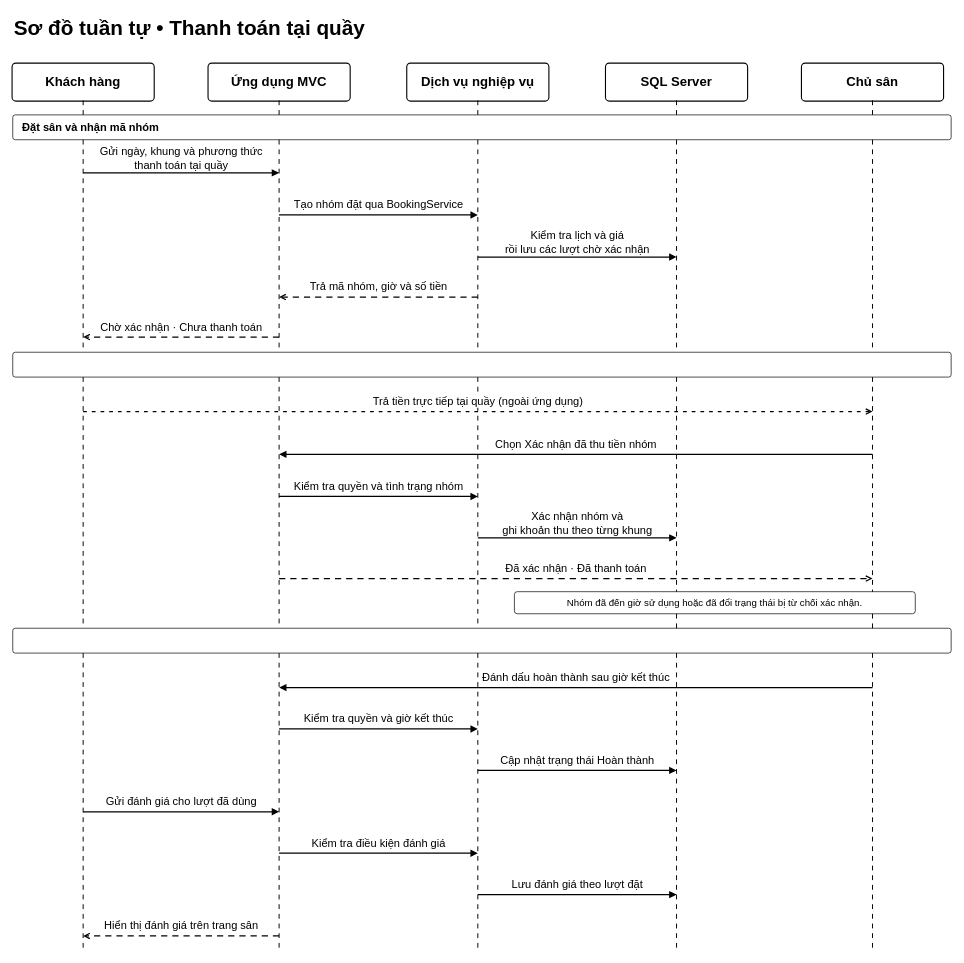
Some shapes in this 964 by 963 pixel diagram are drawn without their labels. The shapes that lost their labels are listed below. From the top down, each one's centre as x and y in pixels, then its label:
the point at 481,364: Thu tiền trước giờ bắt đầu
the point at 481,640: Hoàn thành lượt đặt và đánh giá
